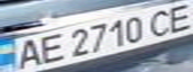0: (121, 12, 151, 44)
1: (106, 16, 130, 47)
2: (66, 25, 93, 58)
7: (87, 20, 112, 53)
A: (9, 37, 45, 71)
C: (142, 7, 181, 37)
E: (33, 32, 69, 65), (160, 1, 193, 33)
